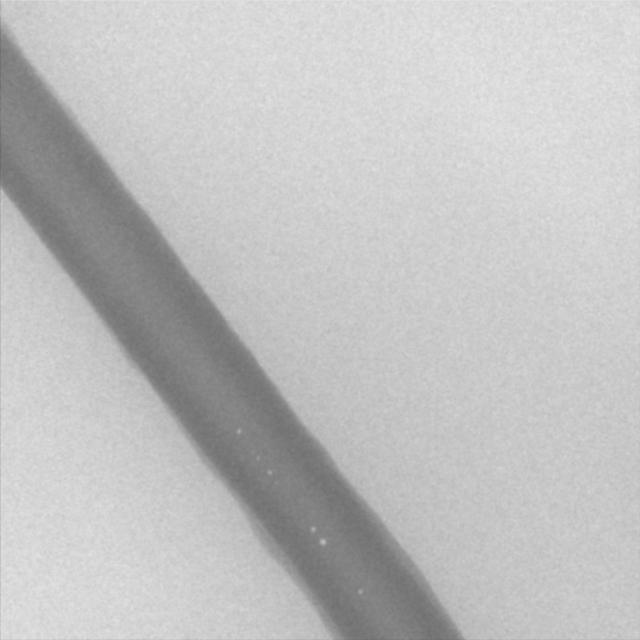air hole: (318, 536, 328, 548), (266, 467, 274, 478), (356, 587, 364, 597), (235, 427, 242, 436), (310, 524, 317, 533)
